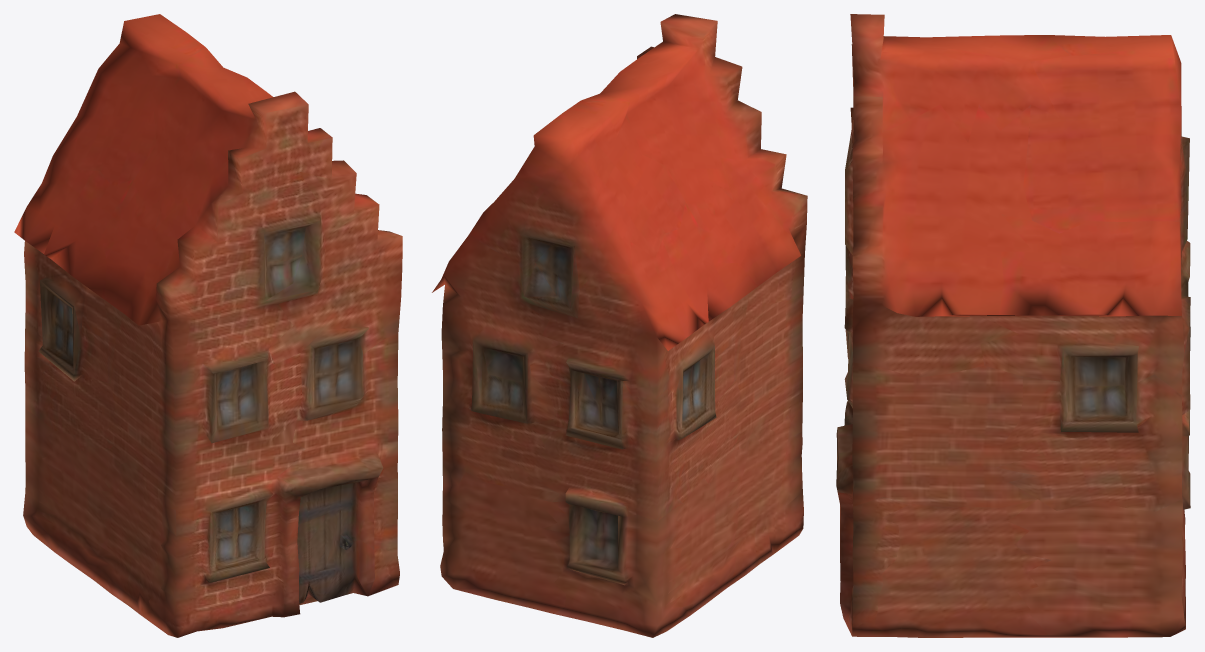
Rendered from house_north.glb.
3 renders of one model, left to right at view 1: azimuth 30°, elevation 25°; view 2: azimuth 150°, elevation 25°; view 3: azimuth 270°, elevation 25°, orthographic. The views are drawn at different scales.
Visible parts, largest first — view 1: tripo_node_d751e217-da3e-4f56-9e16-d252f5362987; view 2: tripo_node_d751e217-da3e-4f56-9e16-d252f5362987; view 3: tripo_node_d751e217-da3e-4f56-9e16-d252f5362987.
Boxes of the visible parts, x1,y1,x2,y2 form: tripo_node_d751e217-da3e-4f56-9e16-d252f5362987: (14,14,402,637); tripo_node_d751e217-da3e-4f56-9e16-d252f5362987: (432,14,807,637); tripo_node_d751e217-da3e-4f56-9e16-d252f5362987: (836,14,1190,637).
Bounding box in the file's own units: 0.5212 × 0.9765 × 0.5684.
Materials: 1 (1 with a texture image).
